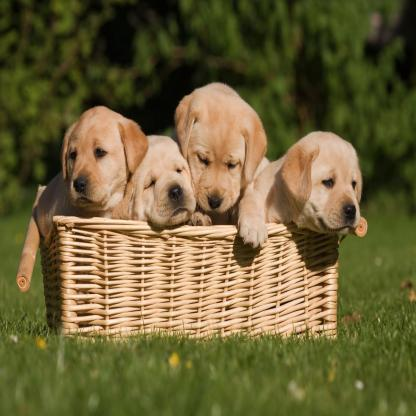dog: (171, 84, 265, 252), (265, 133, 364, 235), (58, 104, 147, 215), (128, 131, 197, 228)
